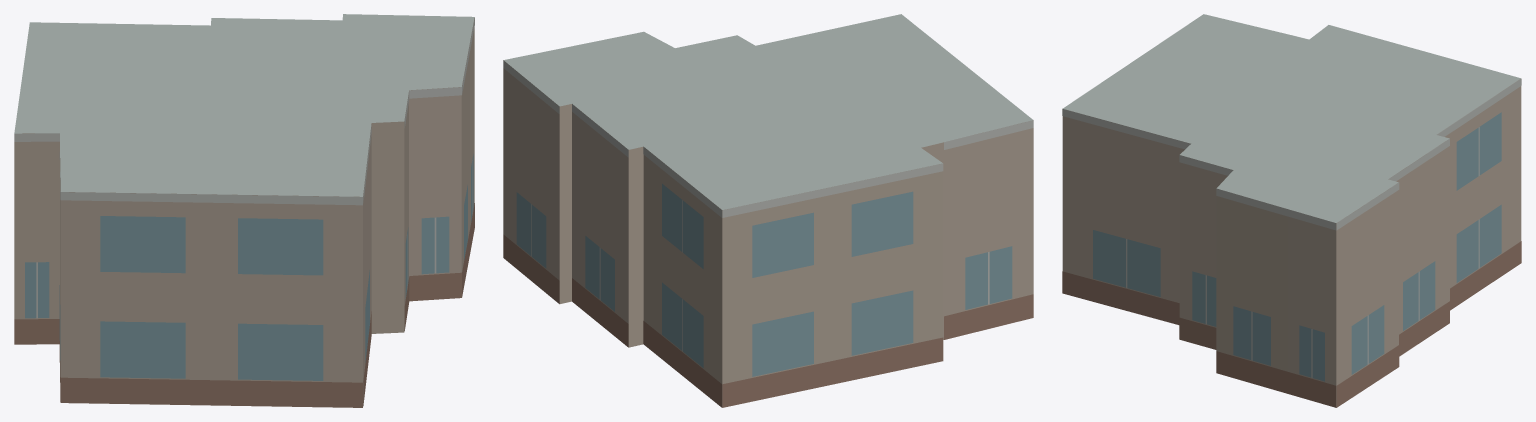
Rendered from survey-upis-32649199.glb.
3 views of the same model, side by side, from view 1: azimuth 30°, elevation 25°; view 2: azimuth 150°, elevation 25°; view 3: azimuth 270°, elevation 25° (orthographic). The views are drawn at different scales.
Visible parts, largest first — view 1: survey-upis-32649199.tmp; view 2: survey-upis-32649199.tmp; view 3: survey-upis-32649199.tmp.
Boxes of the visible parts, x1=… form: survey-upis-32649199.tmp: x1=14, y1=14, x2=474, y2=407; survey-upis-32649199.tmp: x1=503, y1=14, x2=1033, y2=407; survey-upis-32649199.tmp: x1=1062, y1=14, x2=1521, y2=407.
Size of the model in its own units: 14.83 by 6.1 by 13.75.
